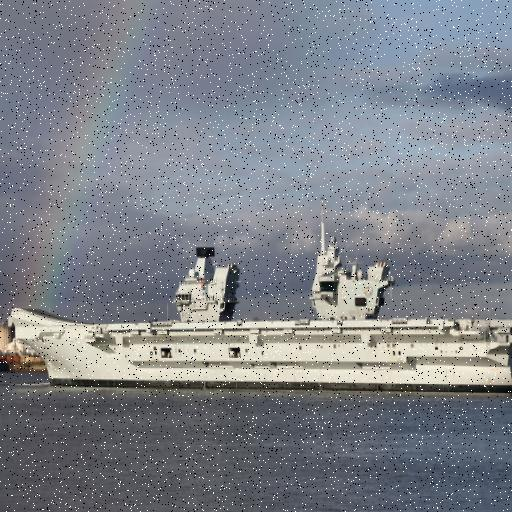Portanaves: (7, 199, 512, 390)
